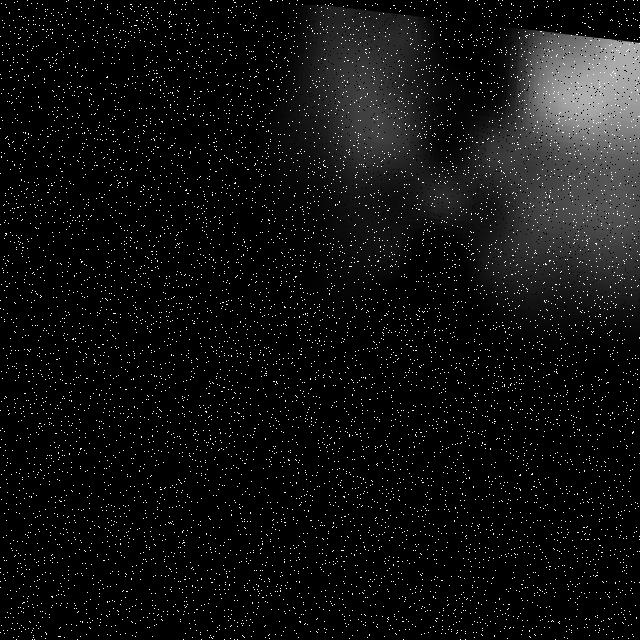person: (211, 3, 459, 365), (448, 21, 640, 395)
